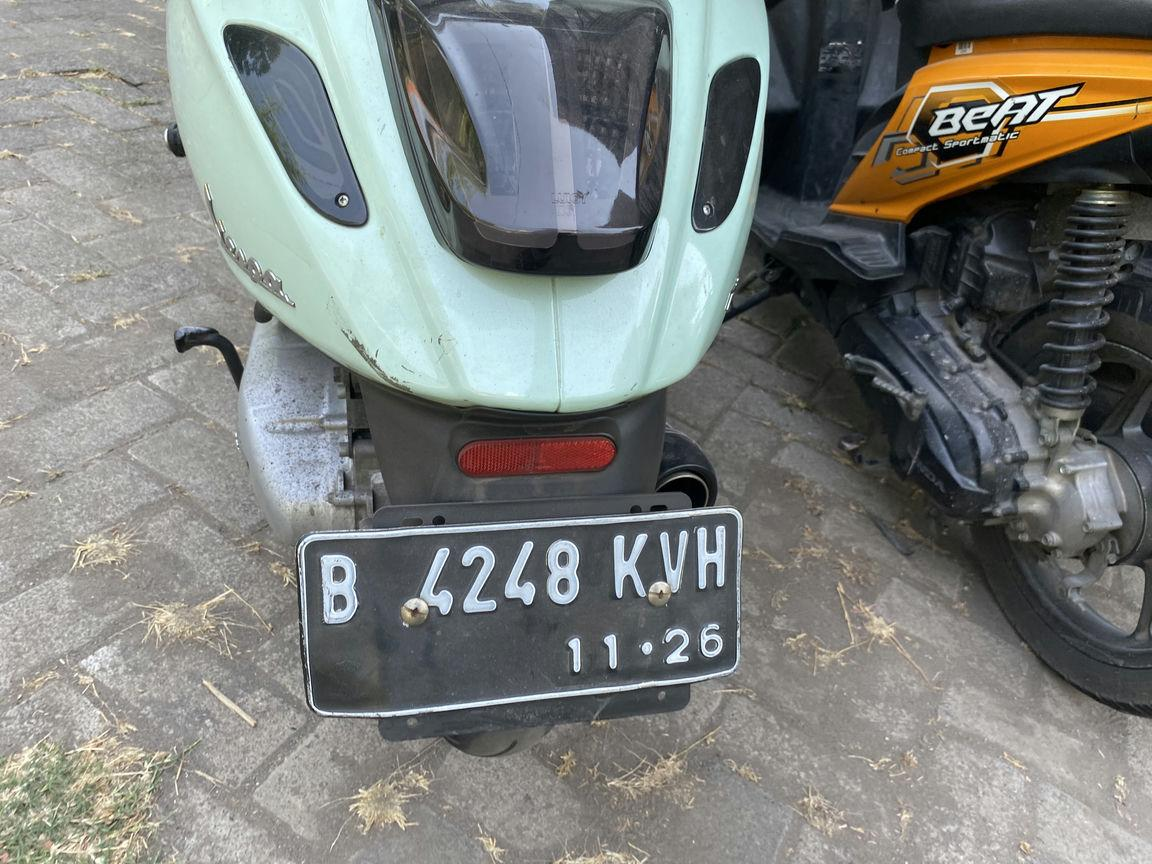plat: (299, 508, 742, 718)
